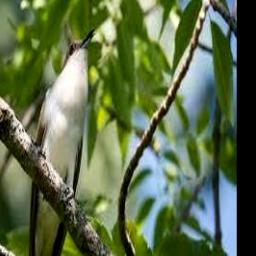Cuckoo: (30, 28, 96, 256)
